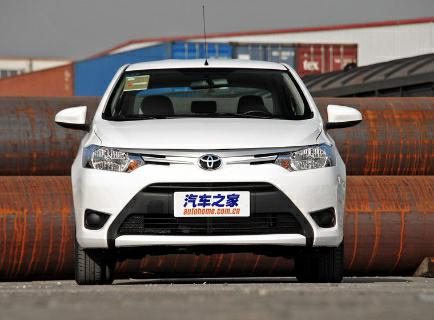丰田-威驰: (50, 47, 370, 289)
